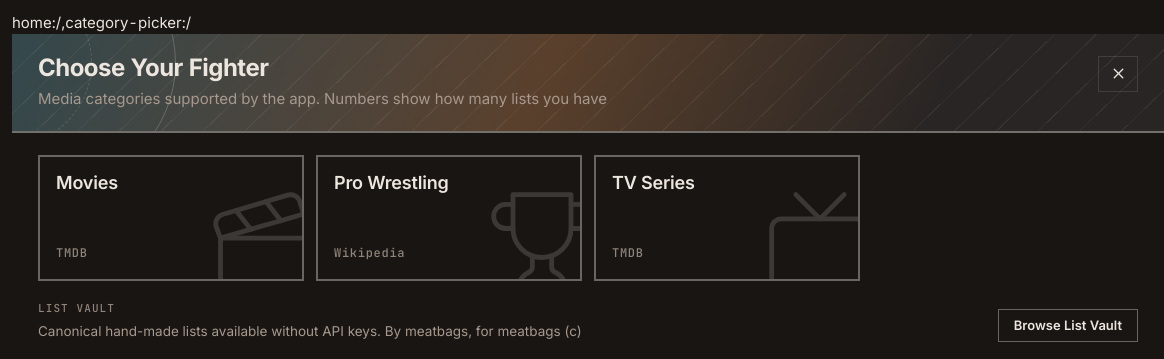
Test case: CategoryPicker › picking a tile pushes the create layer for that category
What coordinates should you click on to do the following:
click the button "Pro Wrestling Wikipedia"
I would click on:
 (391, 183)
Its box is [316, 155, 582, 281].
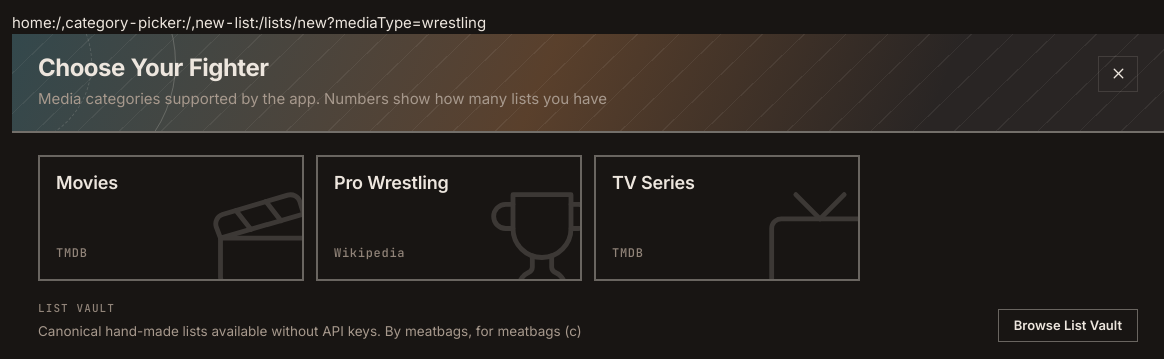
Expected: the text with test id "stack" reads "home:/,category-picker:/,new-list:/lists/new?mediaType=wrestling", [12, 13, 486, 32]
